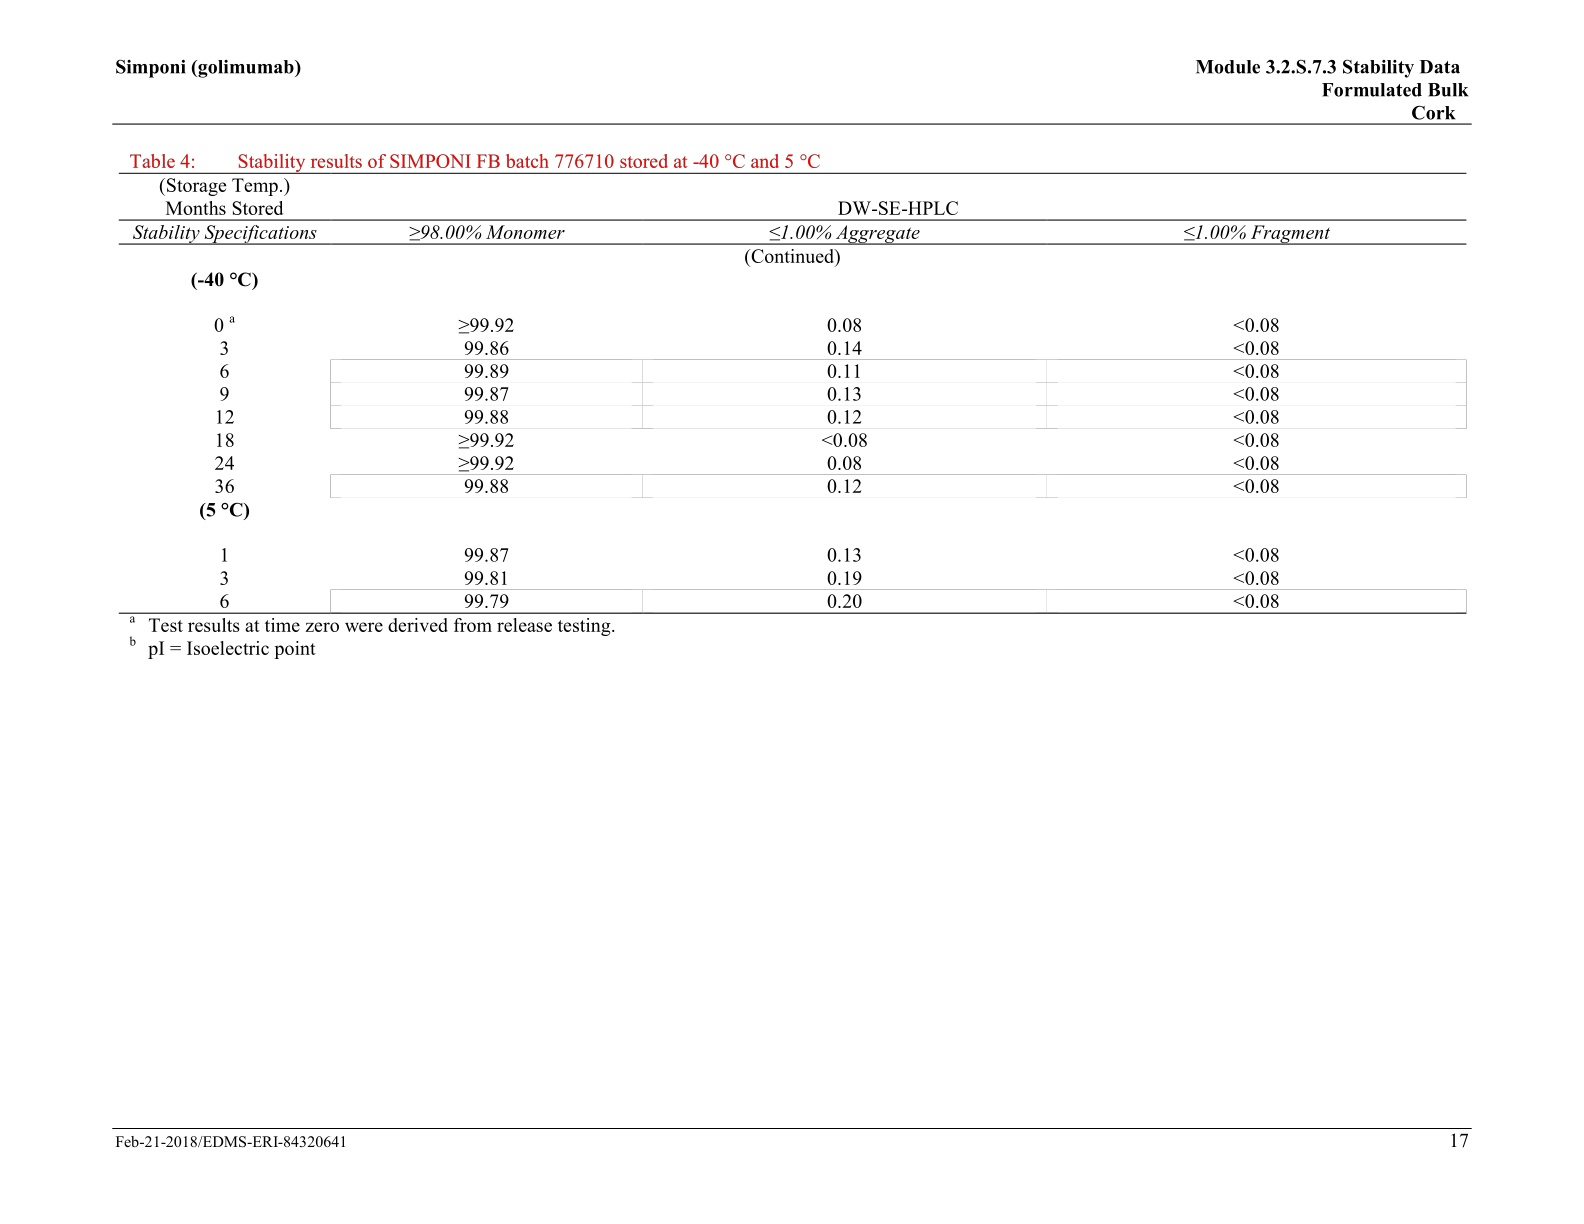partial_lined_merged_cells: (120, 172, 1471, 617)
